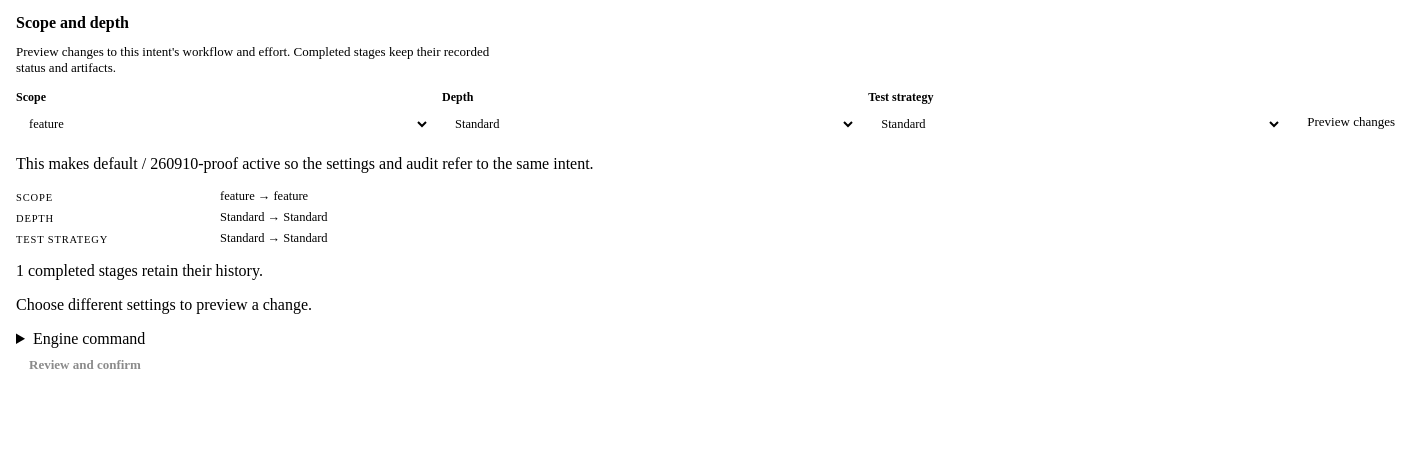
Test case: existing intent settings › previews and confirms the exact digest, then reports verified disk settings
Expected: the button "Review and confirm" is disabled, [16,348,154,382]
Select "Comprehensive" in the dropdown labelled "Depth" at x=649, y=124, box [442,109,856,139]
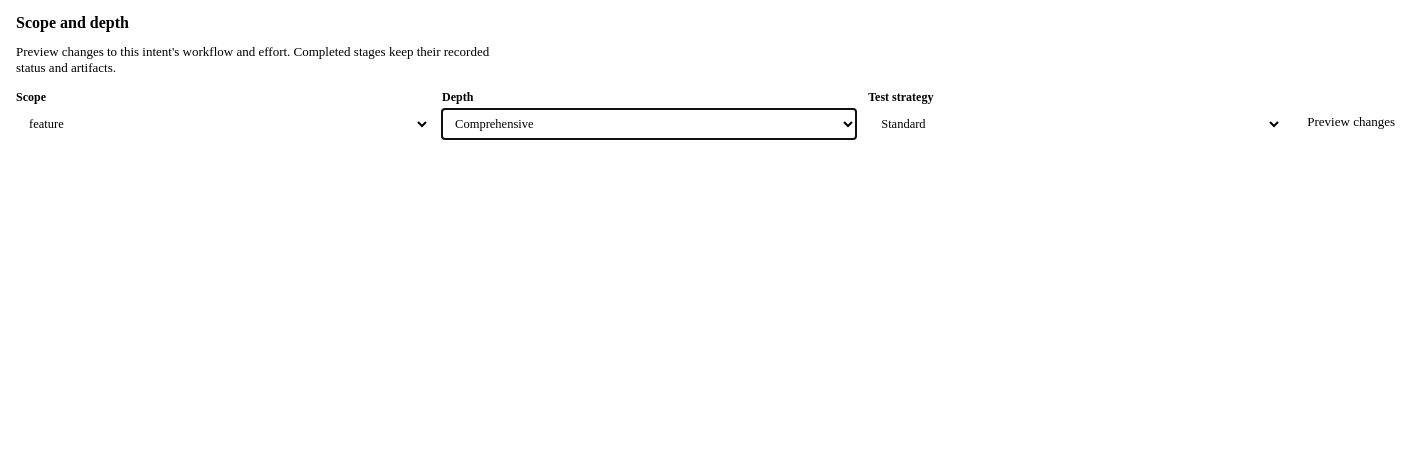
Click the button "Preview changes" at x=1351, y=122, box [1294,105,1408,139]
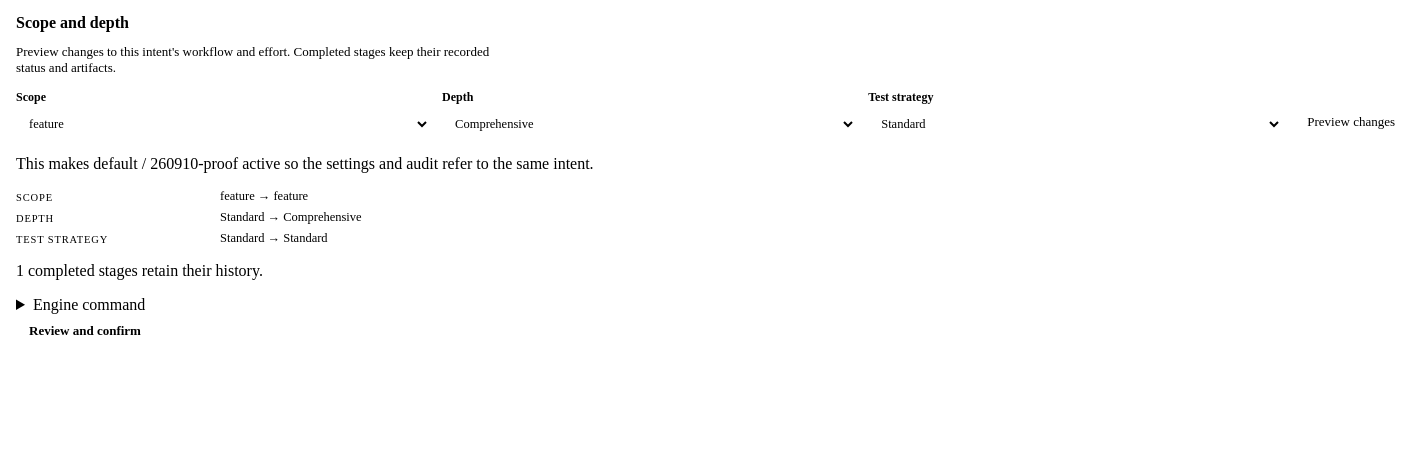
Click the button "Review and confirm" at x=85, y=331, box [16,314,154,348]
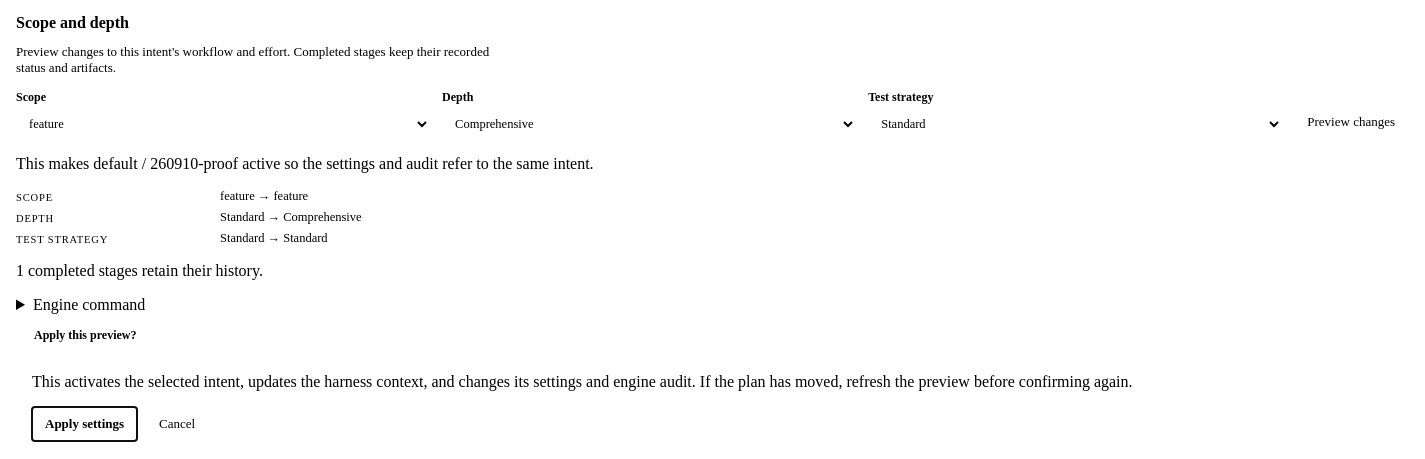
Click the button "Apply settings" at x=85, y=424, box [32,407,137,441]
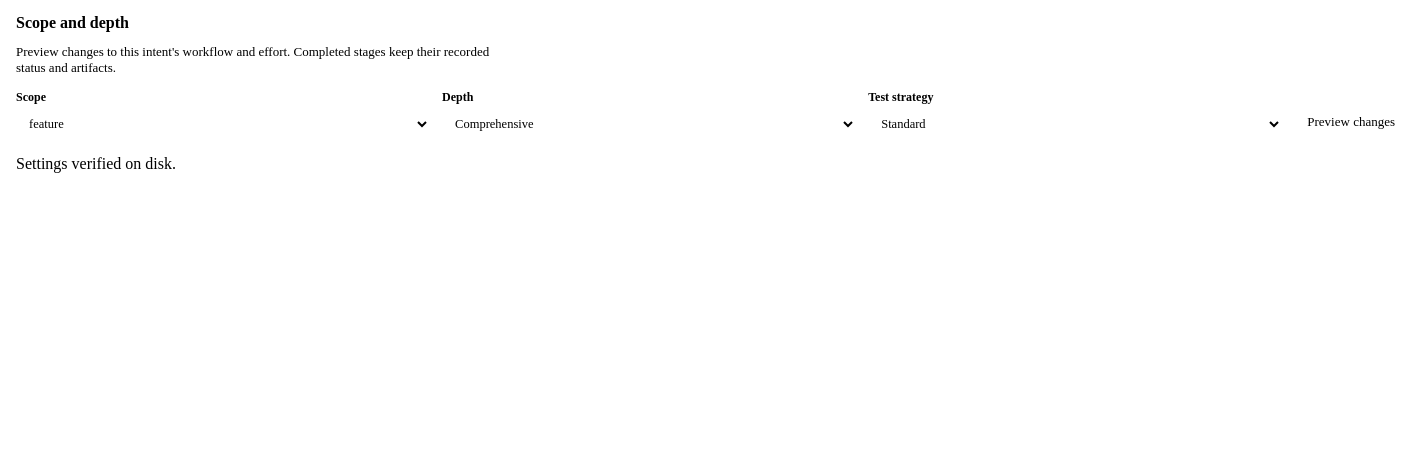
Expected: the text "Settings verified on disk." is shown, [16,155,176,172]
